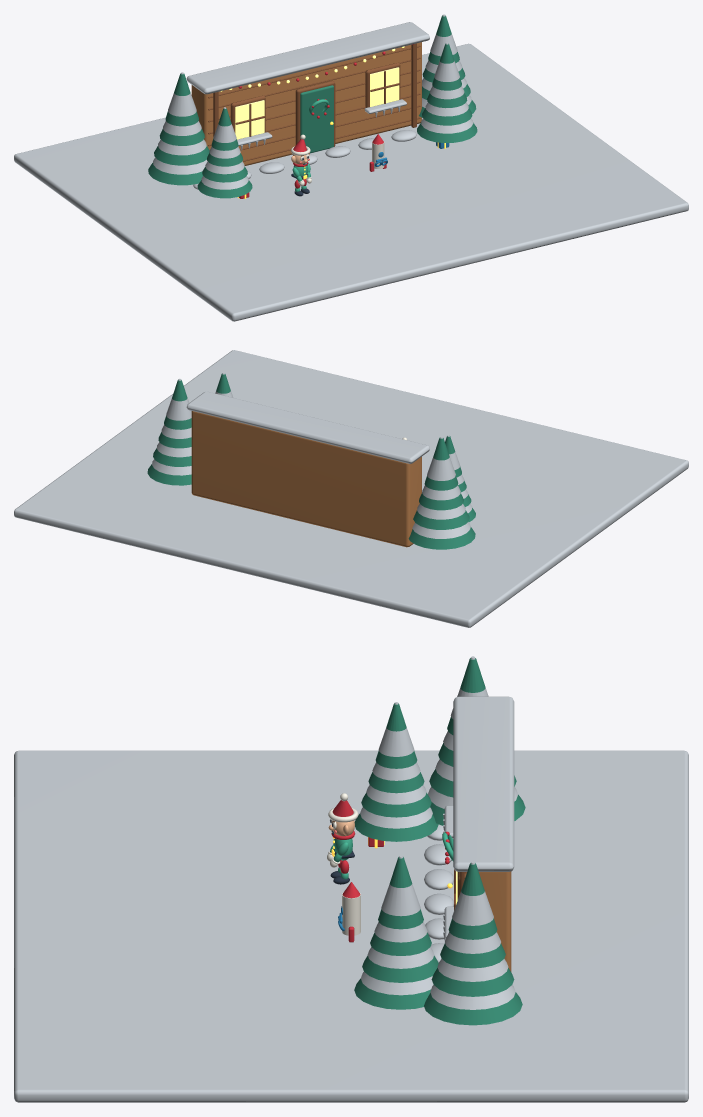
The model's file is chapter-13.glb.
The picture shows the model from 3 angles, top to bottom: view 1: azimuth 30°, elevation 25°; view 2: azimuth 150°, elevation 25°; view 3: azimuth 270°, elevation 25°; orthographic projection. The views are drawn at different scales.
Visible parts, largest first — view 1: Schneeboden, Werkstatt, Schneegesims, Wichteltür, Warmes Fenster, Warmes Fenster.001, Tannenzweig.004, Tannenzweig.008, Tannenzweig.009, Türrahmen, Tannenzweig.011, Schnee.011 (+7 smaller); view 2: Schneeboden, Werkstatt, Schneegesims, Tannenzweig.008, Tannenzweig.009, Tannenzweig.011, Schnee.008, Schnee.011, Tannenzweig.015, Tannenzweig.012, Tannenzweig.010, Schnee.009 (+1 smaller); view 3: Schneeboden, Schneegesims, Werkstatt, Tannenzweig.012, Tannenzweig.013, Tannenzweig.015, Tannenzweig, Schnee.012, Tannenzweig.005, Tannenzweig.004, Schnee.015, Tannenzweig.007 (+16 smaller).
Boxes of the visible parts, box(x1,y1,x2,y2) form: Schneeboden: box(14, 43, 688, 321); Werkstatt: box(191, 42, 421, 165); Schneegesims: box(186, 22, 429, 94); Wichteltür: box(300, 85, 333, 153); Warmes Fenster: box(235, 100, 264, 139); Warmes Fenster.001: box(370, 67, 399, 106); Tannenzweig.004: box(417, 122, 477, 142); Tannenzweig.008: box(148, 163, 202, 185); Tannenzweig.009: box(154, 146, 209, 165); Türrahmen: box(295, 81, 335, 146); Tannenzweig.011: box(165, 73, 198, 126); Schnee.011: box(168, 72, 196, 116); Schneeboden: box(14, 350, 688, 627); Werkstatt: box(191, 411, 421, 547); Schneegesims: box(186, 391, 429, 463); Tannenzweig.008: box(408, 527, 475, 549); Tannenzweig.009: box(413, 510, 469, 529); Tannenzweig.011: box(424, 437, 458, 490); Schnee.008: box(412, 522, 470, 538); Schnee.011: box(427, 436, 455, 480); Tannenzweig.015: box(164, 380, 191, 429); Tannenzweig.012: box(147, 464, 191, 485); Tannenzweig.010: box(419, 493, 463, 510); Schnee.009: box(417, 504, 465, 519); Schneeboden: box(14, 750, 688, 1102); Schneegesims: box(453, 696, 514, 871); Werkstatt: box(466, 871, 511, 971); Tannenzweig.012: box(424, 992, 522, 1025); Tannenzweig.013: box(431, 968, 514, 996); Tannenzweig.015: box(448, 863, 497, 939); Tannenzweig: box(354, 813, 438, 841); Schnee.012: box(430, 985, 515, 1009); Tannenzweig.005: box(362, 955, 438, 982); Tannenzweig.004: box(354, 978, 430, 1009); Schnee.015: box(452, 861, 493, 925); Tannenzweig.007: box(378, 857, 423, 929).
Bounding box in the file's own units: 18 × 4.39 × 15.
